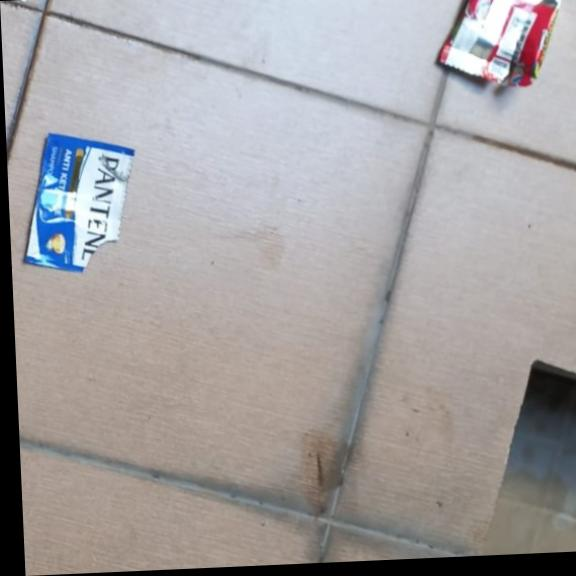Plastik: (19, 128, 140, 276), (435, 0, 574, 89)
